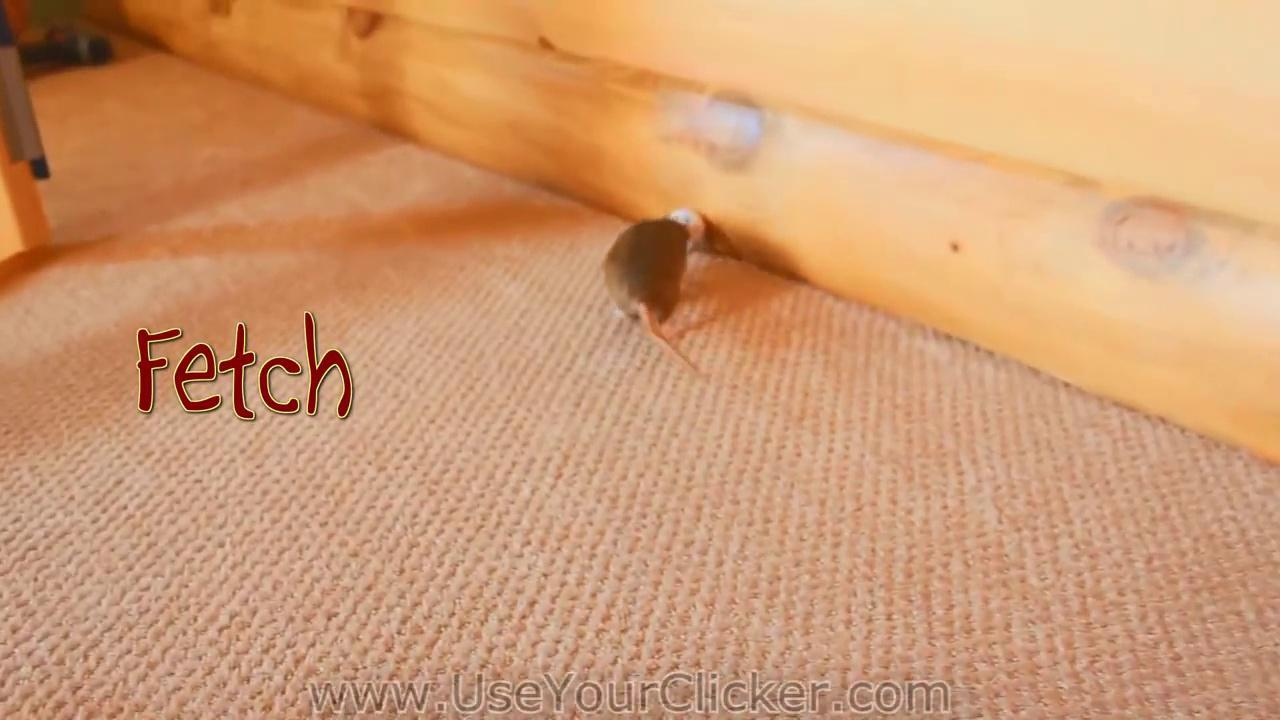rat: (605, 218, 713, 381)
